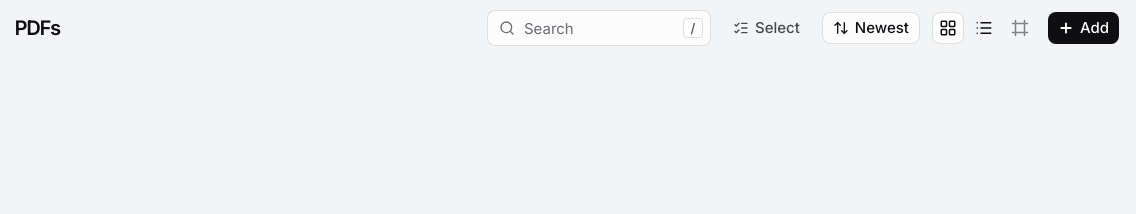
Test: Toolbar › sort › offers the four sort modes with the current one checked
This screenshot has width=1136, height=214.
Click the button with aria-label "Sort: Newest" at (871, 28), box [822,12,920,44]
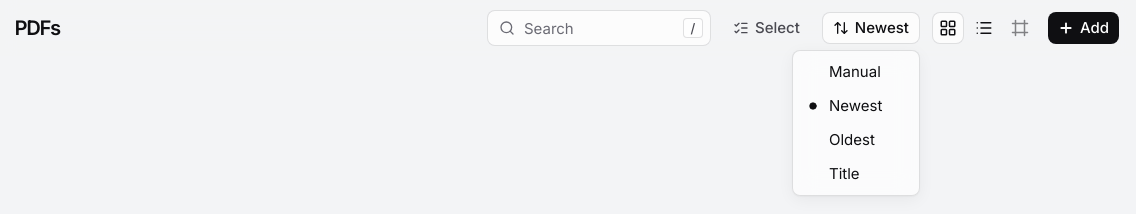
Result: the menu item "Newest" is checked at [809,96,882,115]
